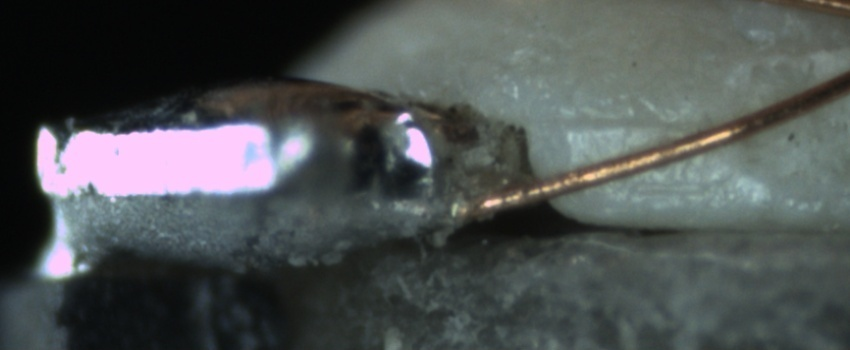DL: (554, 87, 700, 152)
